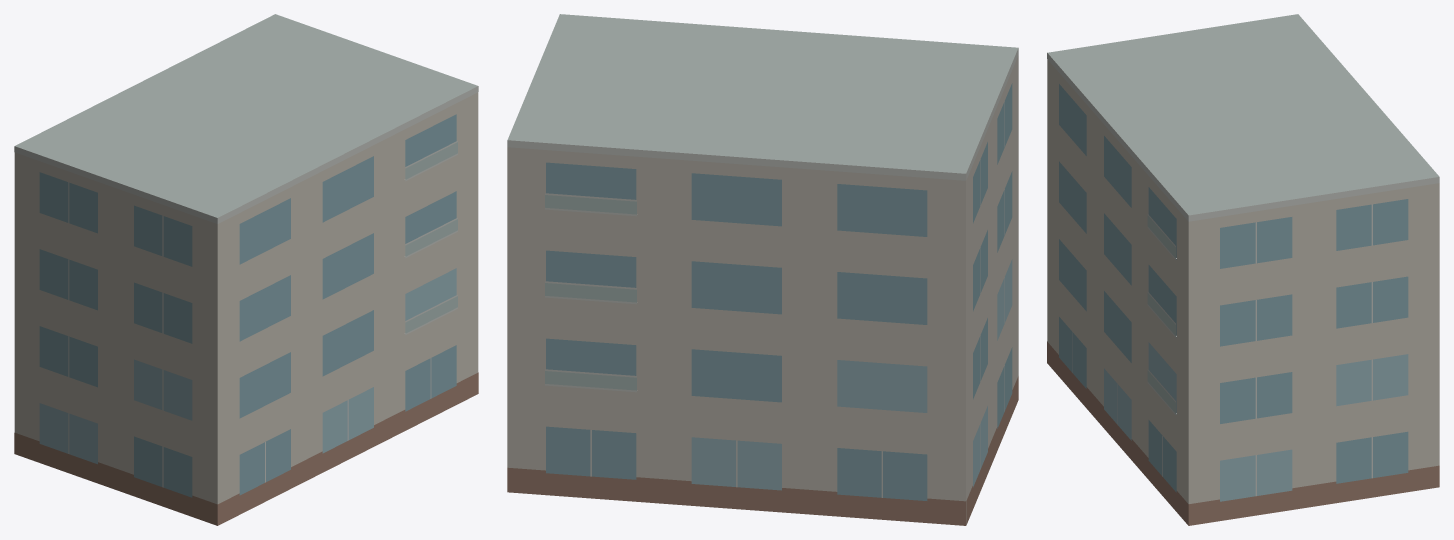
Rendered from survey-upis-32914749.glb.
3 views of the same model, side by side, from view 1: azimuth 30°, elevation 25°; view 2: azimuth 150°, elevation 25°; view 3: azimuth 270°, elevation 25° (orthographic). The views are drawn at different scales.
Parts seen in each view (by area): view 1: survey-upis-32914749.tmp; view 2: survey-upis-32914749.tmp; view 3: survey-upis-32914749.tmp.
Part boxes in pixels (x1,y1,x2,y2): survey-upis-32914749.tmp: (14,14,478,525); survey-upis-32914749.tmp: (507,14,1018,525); survey-upis-32914749.tmp: (1047,14,1439,525).
Size of the model in its own units: 17 by 12.2 by 13.99.
